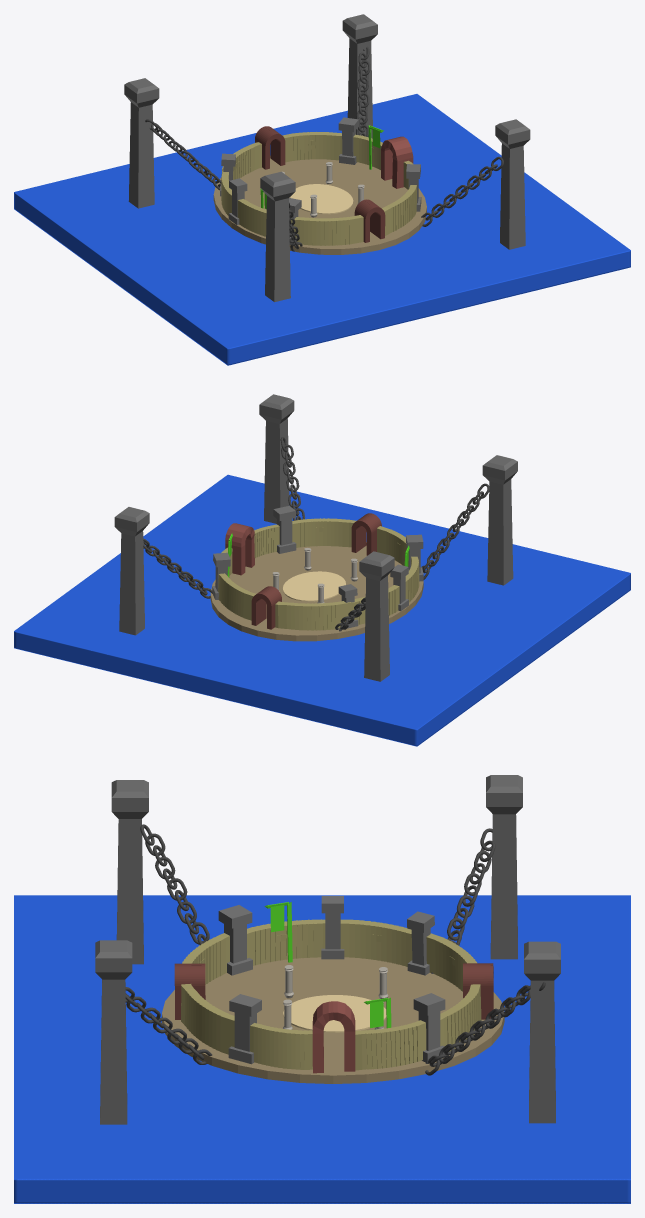
The model's file is Arena_v1.fbx.
The picture shows the model from 3 angles, top to bottom: view 1: azimuth 30°, elevation 25°; view 2: azimuth 150°, elevation 25°; view 3: azimuth 270°, elevation 25°; orthographic projection. The views are drawn at different scales.
Parts seen in each view (by area): view 1: Куб.018, Цилиндр, Куб.020, Куб.019, Куб.022, Куб.021, Куб.011, Куб.013, Цилиндр.001, Куб.004, Куб.010, Куб.001 (+6 smaller); view 2: Куб.018, Цилиндр, Куб.022, Куб.020, Куб.021, Куб.019, Куб.012, Куб.010, Цилиндр.001, Куб.004, Куб.013, Куб.001 (+7 smaller); view 3: Куб.018, Цилиндр, Куб.019, Куб.022, Куб.021, Куб.020, Куб.014, Куб.008, Куб.009, Куб.015, Куб.010, Куб.004 (+13 smaller).
Boxes of the visible parts, x1,y1,x2,y2 form: Куб.018: (14,94,630,365); Цилиндр: (213,156,426,254); Куб.020: (260,171,295,302); Куб.019: (495,119,530,249); Куб.022: (124,78,159,208); Куб.021: (342,14,377,138); Куб.011: (290,215,363,245); Куб.013: (282,132,342,162); Цилиндр.001: (290,184,353,214); Куб.004: (381,136,413,188); Куб.010: (382,185,416,235); Куб.001: (255,126,285,169); Куб.018: (14,474,630,746); Цилиндр: (210,542,423,641); Куб.022: (359,551,394,681); Куб.020: (482,455,517,585); Куб.021: (114,507,149,635); Куб.019: (259,394,294,523); Куб.012: (275,601,351,630); Куб.010: (292,518,356,547); Цилиндр.001: (282,571,345,601); Куб.004: (225,523,254,575); Куб.013: (218,573,255,620); Куб.001: (251,586,281,629); Куб.018: (14,895,630,1203); Цилиндр: (162,957,504,1083); Куб.019: (95,940,132,1124); Куб.022: (486,775,522,959); Куб.021: (524,941,560,1123); Куб.020: (111,780,148,964); Куб.014: (355,1020,426,1070); Куб.008: (340,919,412,966); Куб.009: (247,919,325,965); Куб.015: (250,1023,312,1069); Куб.010: (181,984,234,1054); Куб.004: (312,1001,355,1073).
Bounding box in the file's own units: 4903 × 1602 × 4505.
